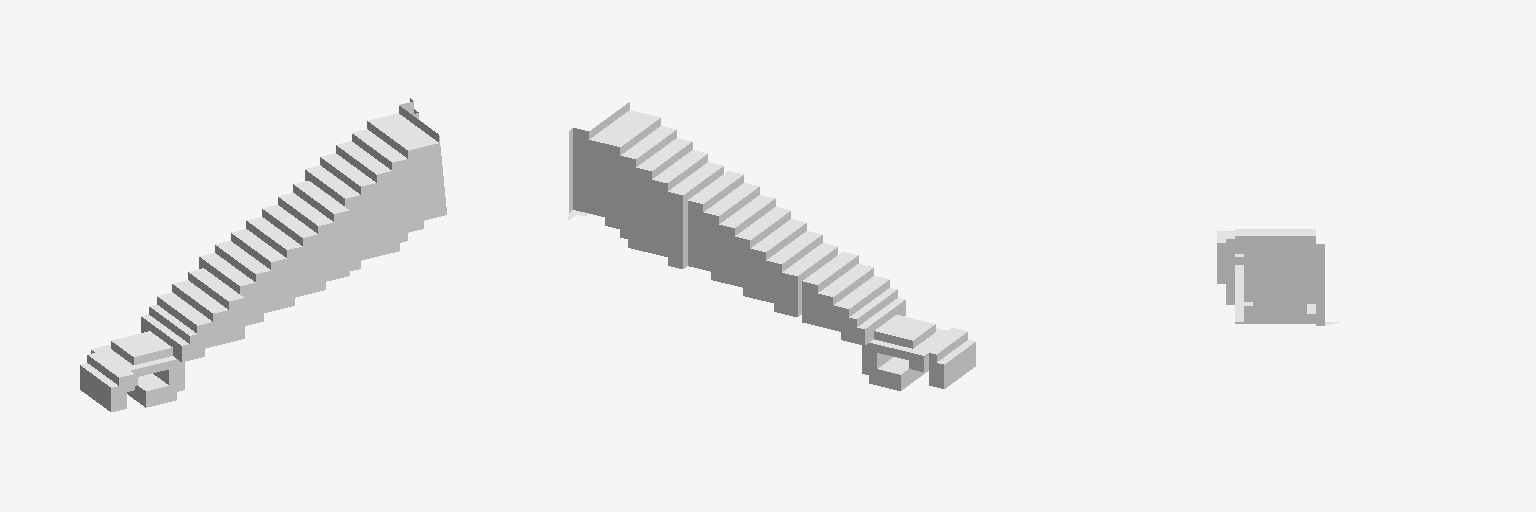
Rendered from BrazoDer.obj.
The picture shows the model from 3 angles: view 1: azimuth 30°, elevation 25°; view 2: azimuth 150°, elevation 25°; view 3: azimuth 270°, elevation 25°; orthographic projection.
Visible parts, largest first — view 1: EdnaModaFINAL; view 2: EdnaModaFINAL; view 3: EdnaModaFINAL.
Part boxes in pixels (x1,y1,x2,y2): EdnaModaFINAL: (80,98,446,411); EdnaModaFINAL: (568,102,975,390); EdnaModaFINAL: (1217,229,1339,325).
Size of the model in its own units: 4.5 by 2.4 by 1.4.